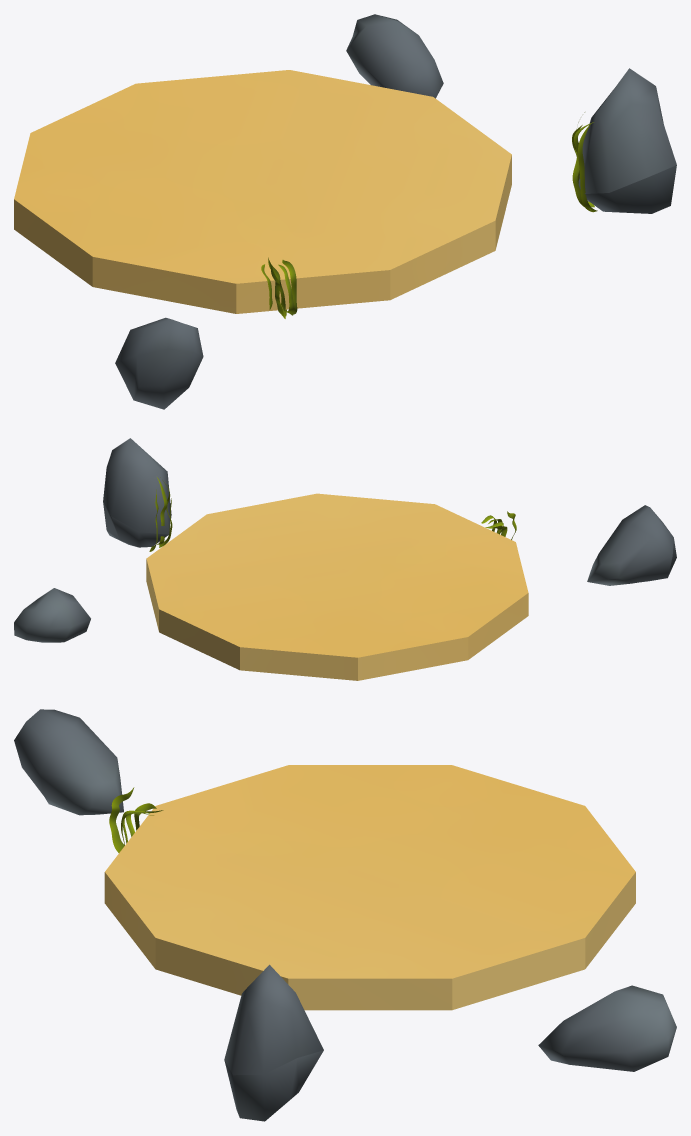
Rendered from desertTest.fbx.
3 renders of one model, top to bottom at view 1: azimuth 30°, elevation 25°; view 2: azimuth 150°, elevation 25°; view 3: azimuth 270°, elevation 25°, orthographic. The views are drawn at different scales.
Parts seen in each view (by area): view 1: Icosphere, Cube, NurbsPath, NurbsPath.001; view 2: Icosphere, Cube, NurbsPath.001; view 3: Icosphere, Cube, NurbsPath.
Boxes of the visible parts, x1,y1,x2,y2 form: Icosphere: [14, 70, 511, 313]; Cube: [115, 14, 676, 409]; NurbsPath: [261, 257, 297, 318]; NurbsPath.001: [572, 112, 597, 212]; Icosphere: [146, 493, 528, 680]; Cube: [14, 438, 676, 642]; NurbsPath.001: [149, 477, 172, 551]; Icosphere: [104, 765, 635, 1010]; Cube: [14, 709, 676, 1121]; NurbsPath: [109, 787, 163, 852].
Size of the model in its own units: 3099 by 649 by 2636.
1 material, 1 textured.
